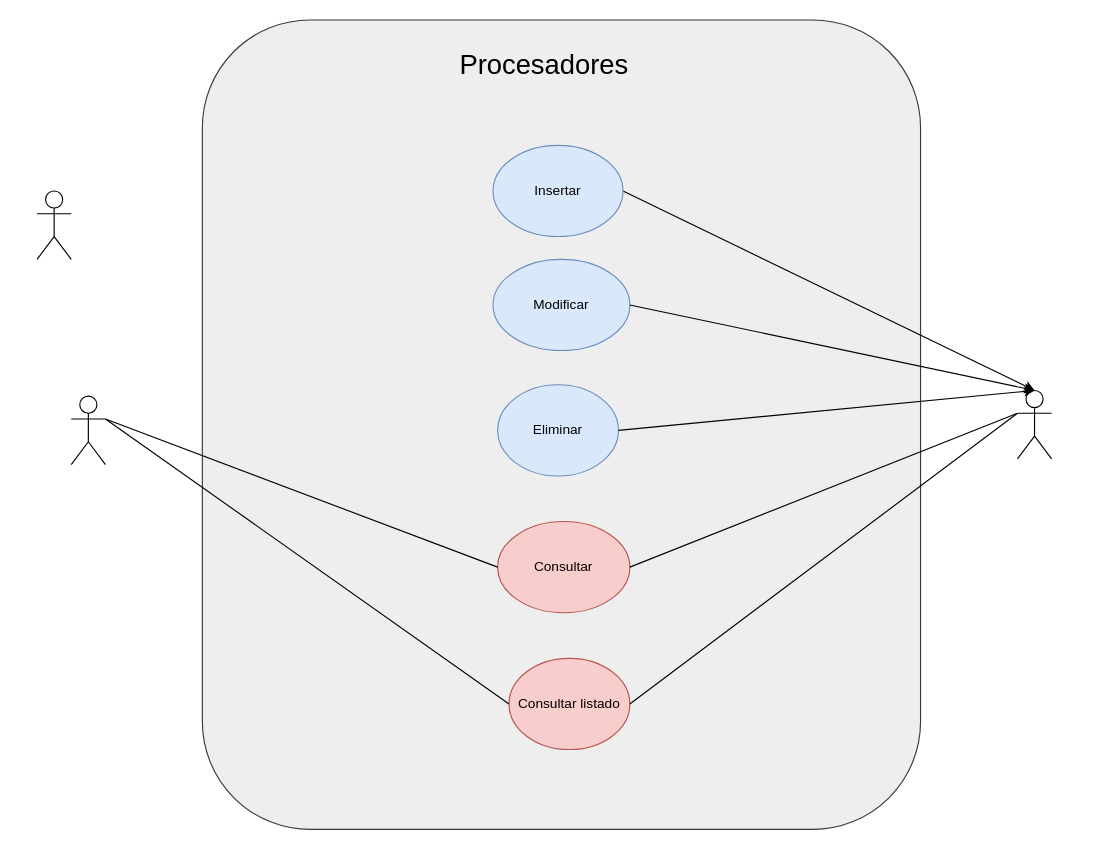
Image size: 1096x849. Some labels were removed from this diagram. Each missing label, with the box of its shape:
ActorName: (36, 190, 71, 259)
Administrador: (1016, 389, 1052, 459)
Usuario: (70, 395, 105, 465)
